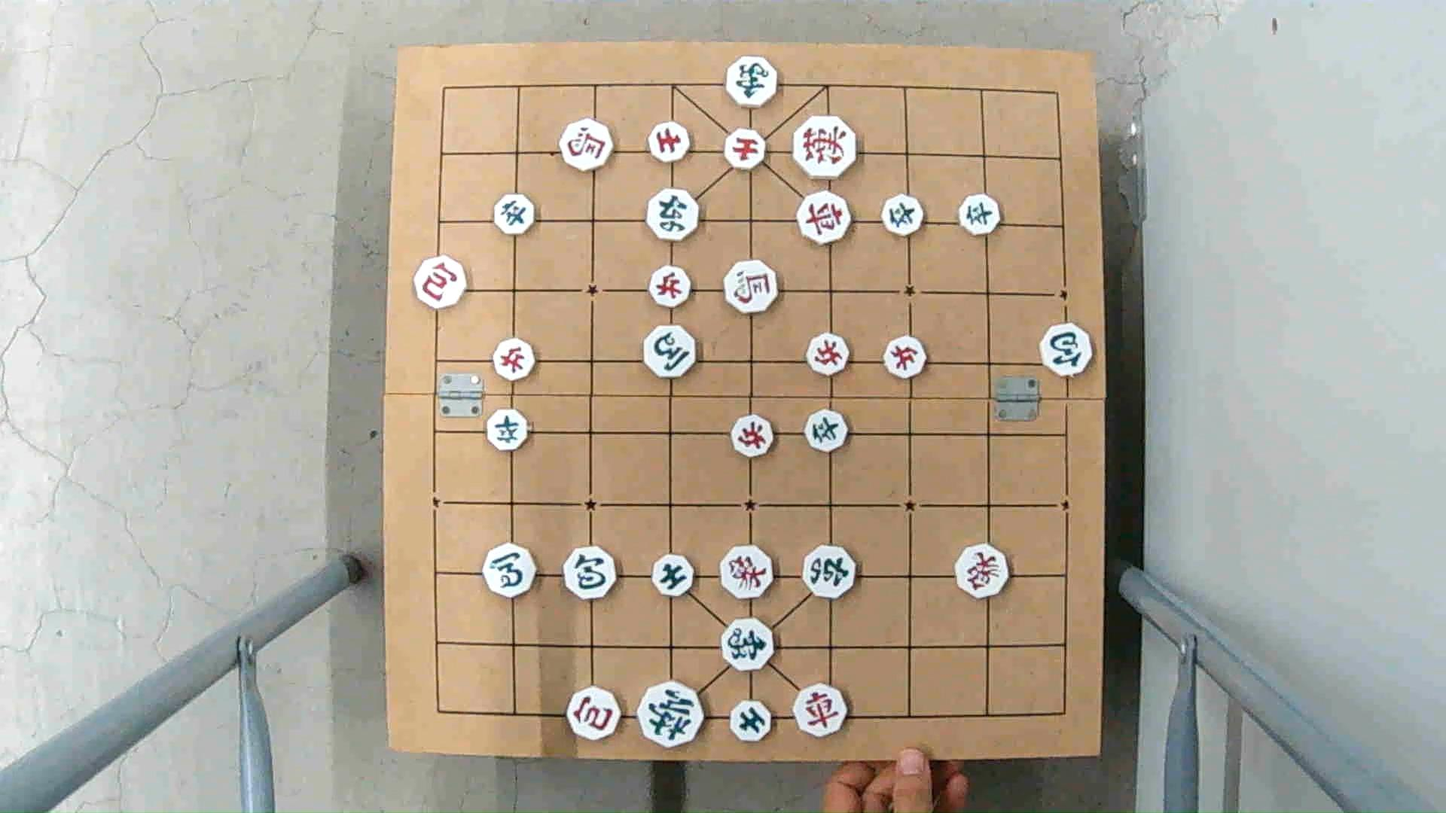cha_green: (643, 187, 702, 238), (804, 545, 858, 599)
cha_red: (794, 683, 846, 734), (798, 192, 853, 239)
jol_green: (802, 411, 848, 453), (880, 195, 924, 236), (484, 413, 529, 452), (958, 196, 1002, 234), (492, 196, 535, 234)
jol_red: (731, 412, 778, 458), (807, 334, 851, 375), (490, 342, 537, 380), (883, 339, 928, 377), (649, 268, 692, 307)
ma_green: (482, 547, 539, 597), (642, 327, 697, 377)
ma_red: (558, 119, 616, 172), (722, 260, 778, 313)
po_green: (563, 547, 619, 597), (1040, 327, 1094, 377)
po_red: (565, 689, 624, 737), (413, 258, 468, 306)
sa_green: (648, 557, 694, 597), (728, 703, 776, 741)
sa_red: (721, 129, 767, 168), (645, 123, 691, 161)
sang_green: (722, 56, 782, 106), (718, 621, 775, 670)
sang_red: (953, 542, 1012, 598), (720, 545, 773, 601)
wang_green: (636, 681, 705, 746)
wang_red: (792, 117, 858, 181)
